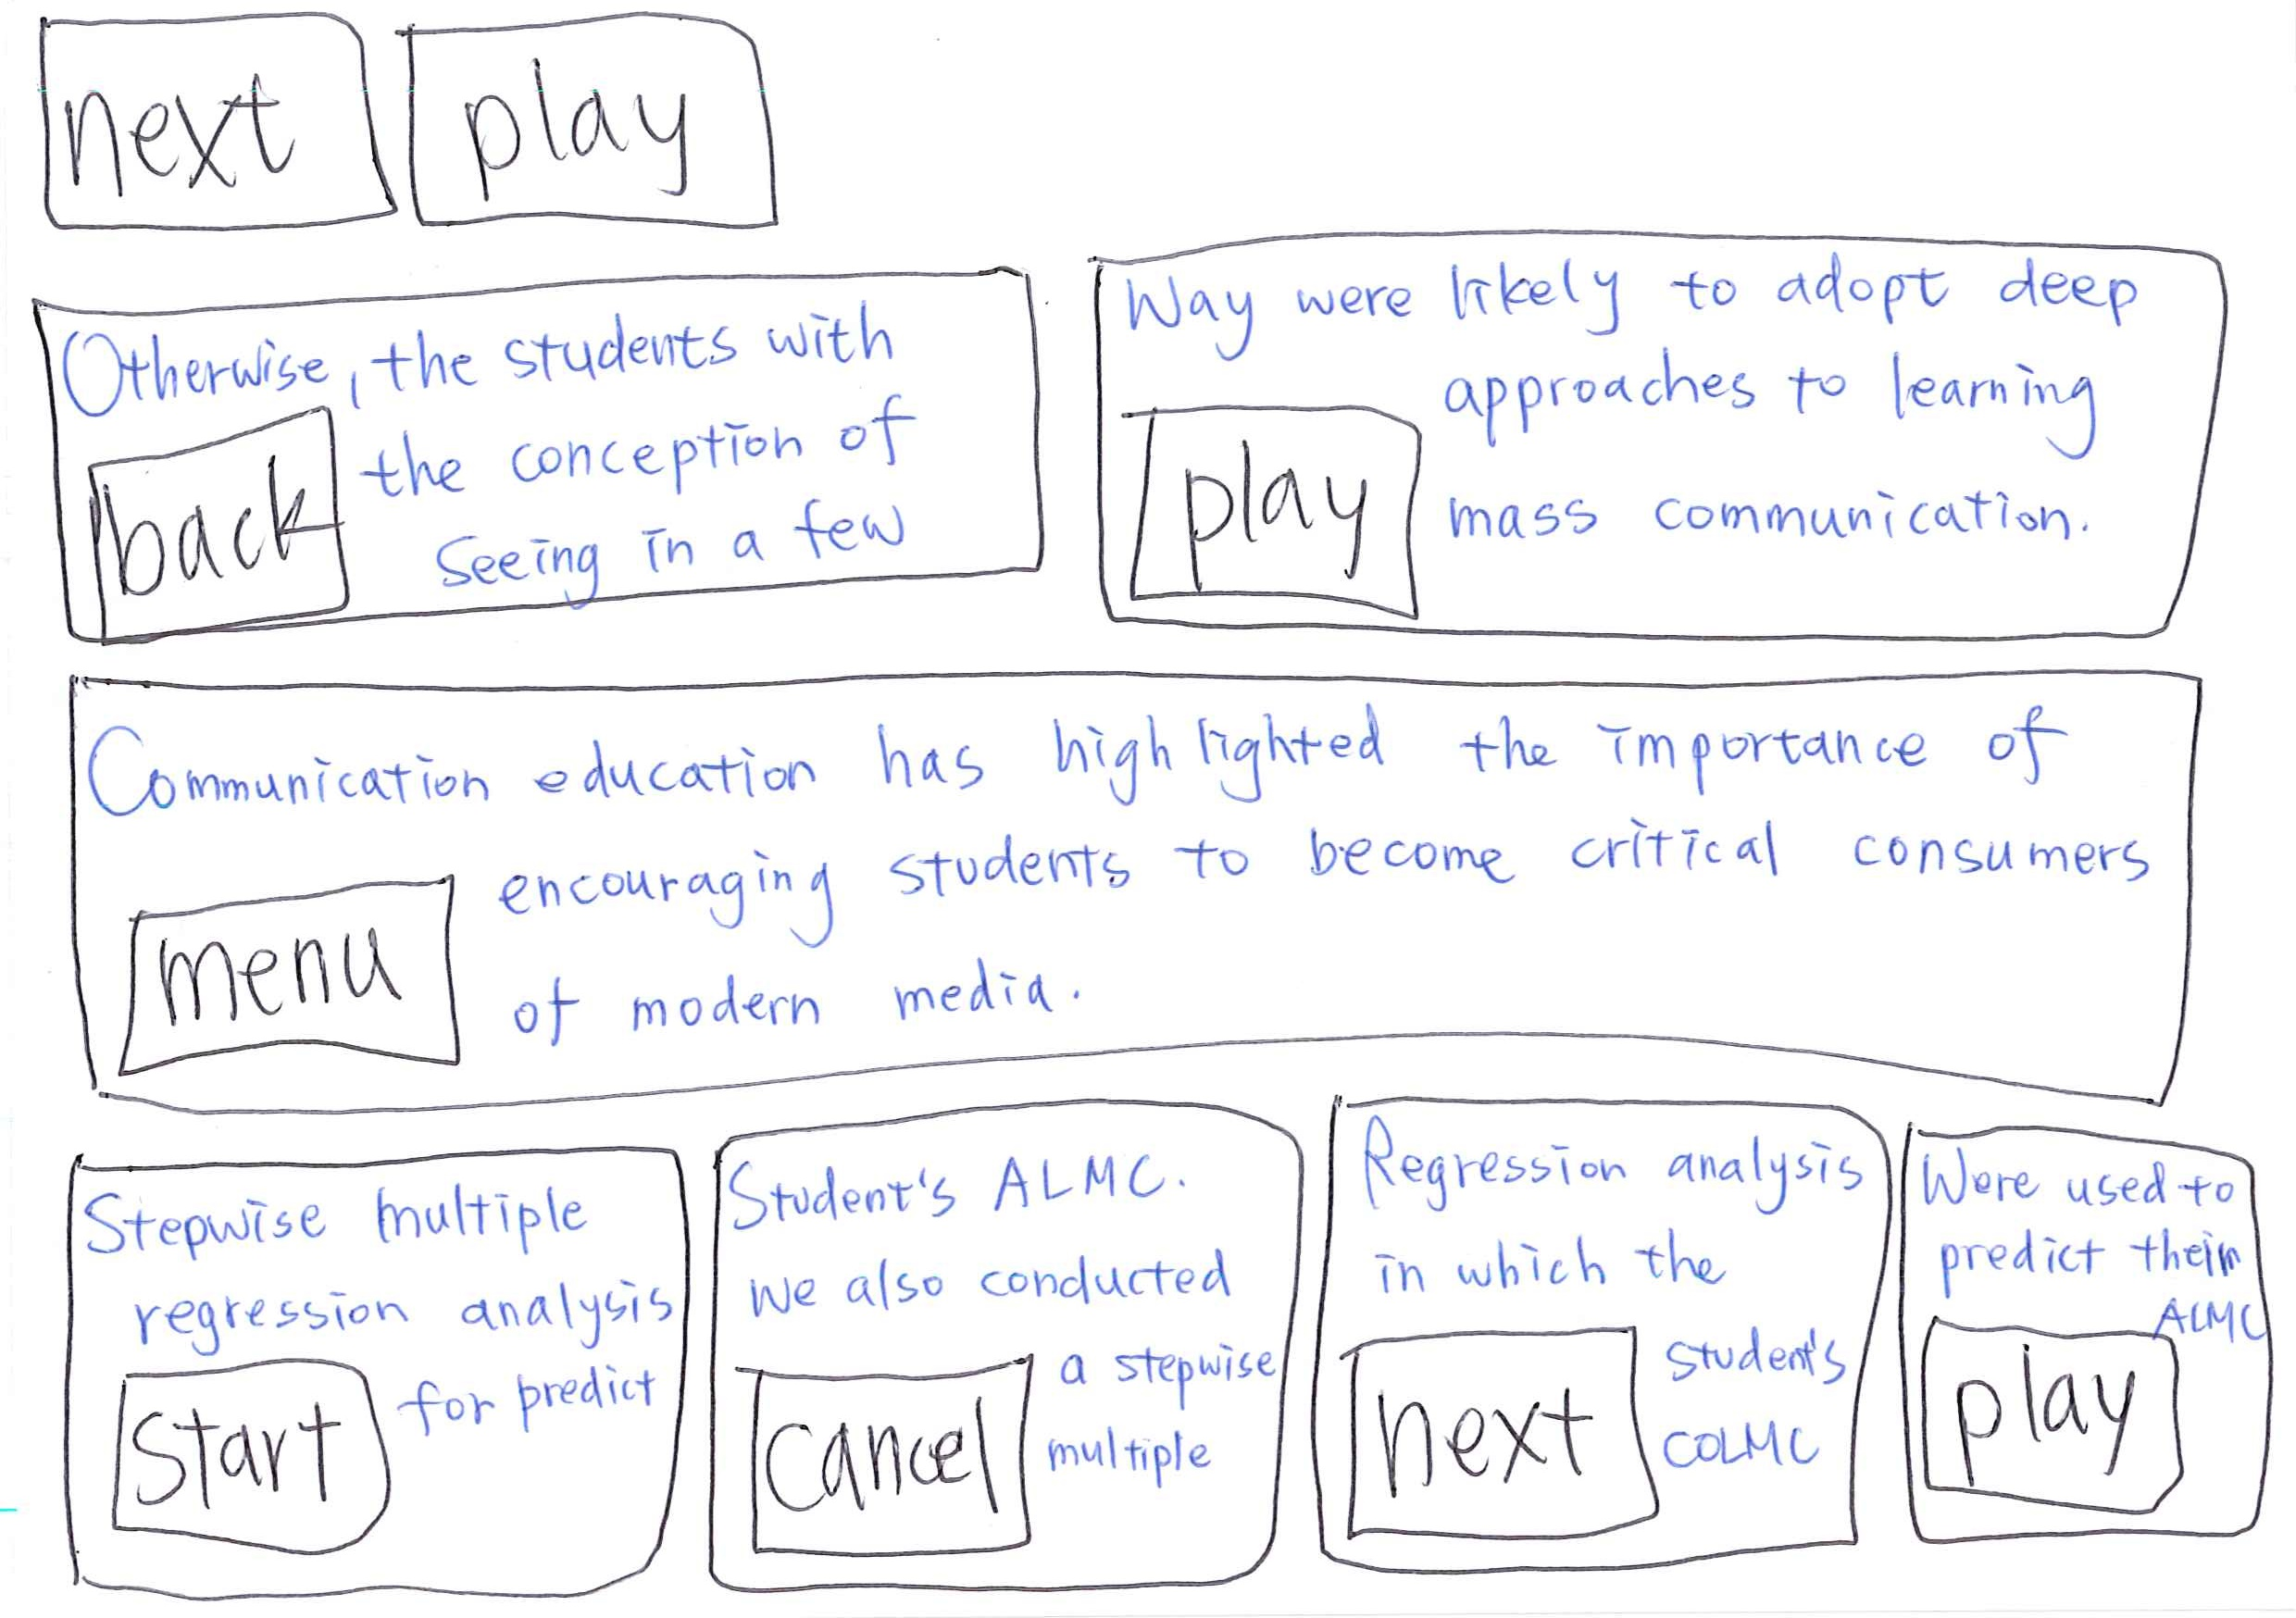back: (56, 410, 366, 630)
cancel: (730, 1336, 1054, 1585)
double: (1070, 203, 2273, 657), (2, 233, 1084, 650)
menu: (84, 860, 489, 1093)
next: (16, 5, 401, 257), (1306, 1305, 1680, 1546)
play: (394, 2, 823, 235), (1096, 383, 1438, 625), (1893, 1294, 2208, 1518)
quadruple: (666, 1073, 1321, 1604), (1256, 1054, 1912, 1583), (37, 1117, 692, 1618), (1869, 1089, 2296, 1599)
row: (4, 1059, 2296, 1618), (4, 214, 2296, 676), (4, 651, 2296, 1114), (2, 2, 2294, 266)
single: (16, 650, 2284, 1131)
small-title: (91, 718, 2044, 783), (1110, 254, 2137, 336), (60, 324, 933, 387), (1356, 1117, 1874, 1215), (86, 1187, 606, 1261), (729, 1156, 1187, 1213), (1925, 1140, 2233, 1215)
start: (96, 1345, 424, 1567)
text: (482, 807, 2133, 1002), (1436, 350, 2128, 566), (373, 392, 939, 567), (1026, 1254, 1266, 1495), (79, 1266, 653, 1345), (737, 1243, 1240, 1313), (1673, 1261, 1818, 1490), (406, 1303, 639, 1441), (1343, 1231, 1748, 1298), (1937, 1221, 2217, 1273), (2168, 1231, 2236, 1347)
